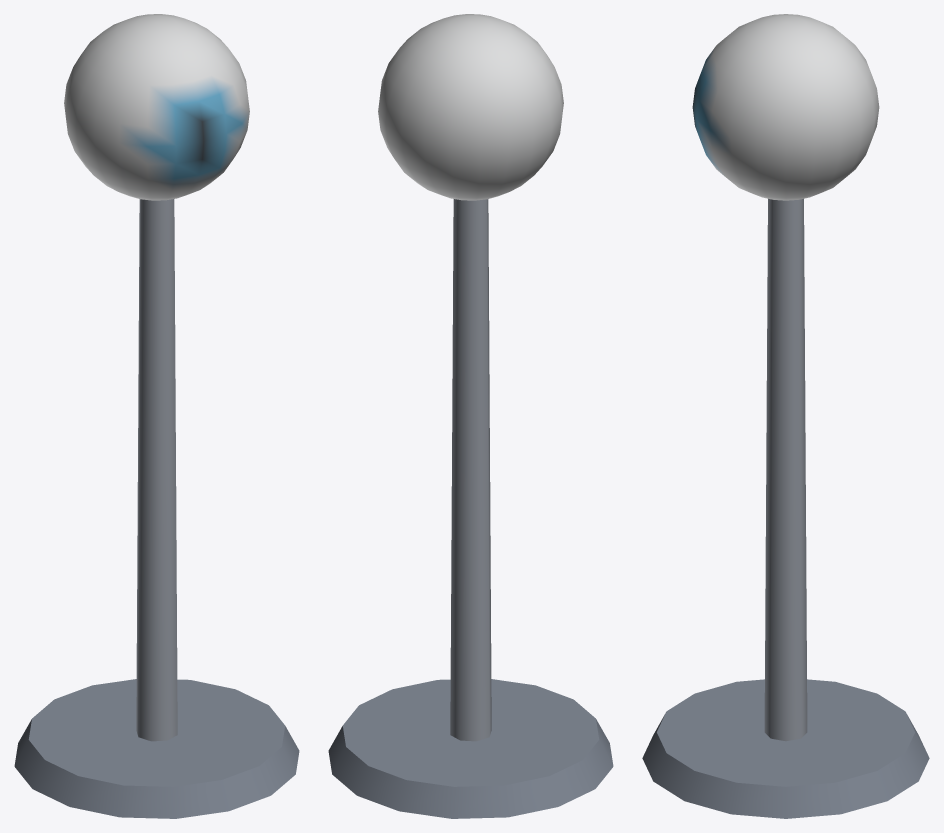
File: eye.glb
3 views of the same model, side by side, from view 1: azimuth 30°, elevation 25°; view 2: azimuth 150°, elevation 25°; view 3: azimuth 270°, elevation 25° (orthographic).
Visible parts, largest first — view 1: eye; view 2: eye; view 3: eye.
Part boxes in pixels (<box>): eye: <box>14,14,299,818</box>; eye: <box>328,14,613,818</box>; eye: <box>642,14,929,818</box>.
Size of the model in its own units: 0.4 by 1.13 by 0.4.
